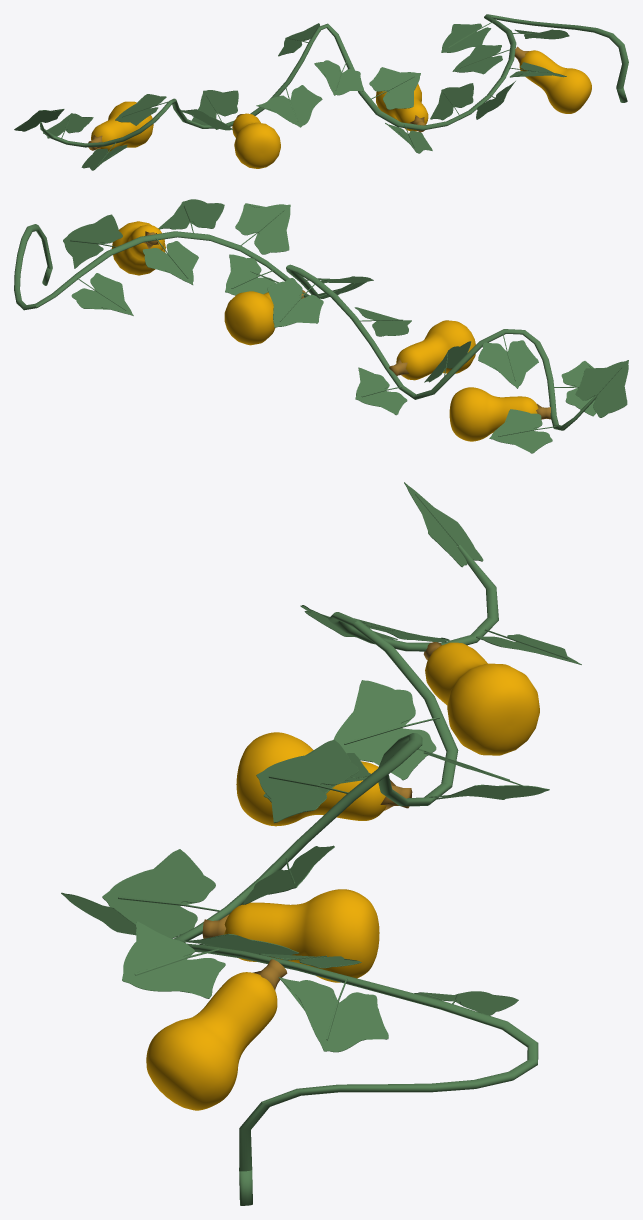
The model's file is vine-with-squash.fbx.
3 views of the same model, one above another, from view 1: azimuth 30°, elevation 25°; view 2: azimuth 150°, elevation 25°; view 3: azimuth 270°, elevation 25° (orthographic). The views are drawn at different scales.
Parts seen in each view (by area): view 1: cucumber/squash vine, squash 1, squash 3, squash 4, squash 2; view 2: cucumber/squash vine, squash 4, squash 3, squash 2, squash 1; view 3: cucumber/squash vine, squash 1, squash 4, squash 2, squash 3.
Part boxes in pixels (x1,y1,x2,y2): cucumber/squash vine: (14,14,628,170); squash 1: (514,46,591,113); squash 3: (232,113,280,168); squash 4: (88,101,153,151); squash 2: (376,84,428,132); cucumber/squash vine: (14,199,628,453); squash 4: (449,387,551,441); squash 3: (389,320,475,380); squash 2: (224,290,305,345); squash 1: (111,221,165,275); cucumber/squash vine: (61,482,581,1205); squash 1: (146,959,287,1110); squash 4: (423,642,539,755); squash 2: (202,889,379,982); squash 3: (236,732,412,826).
Size of the model in its own units: 1947 by 362 by 781.
